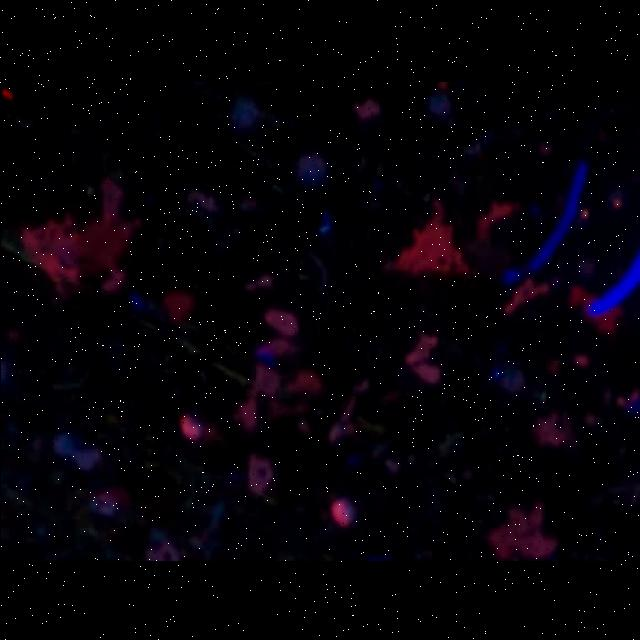Fragment: (486, 501, 556, 559)
